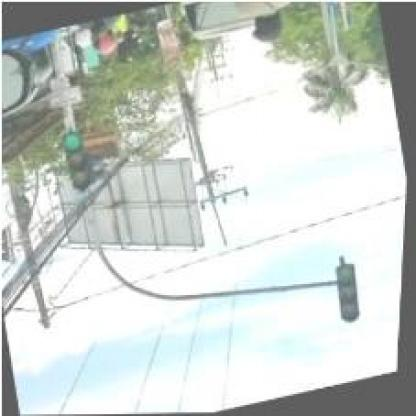green: (57, 130, 93, 193), (332, 263, 368, 323)
